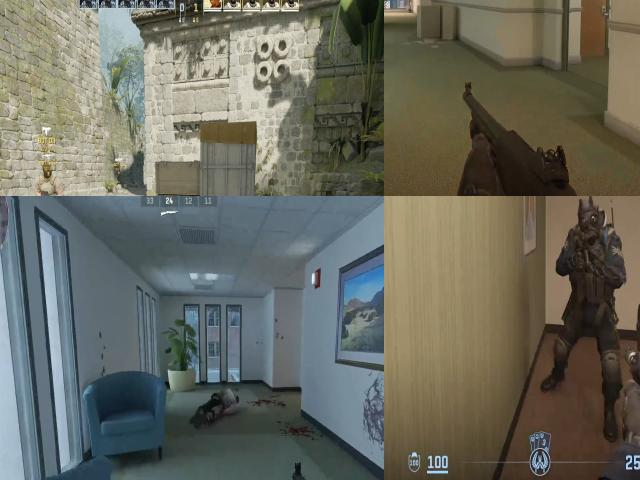CT: (556, 196, 622, 355)
CT-Head: (574, 196, 608, 250)
Dead: (202, 385, 241, 424)
T: (27, 156, 66, 196)
T-Head: (38, 159, 55, 178)
